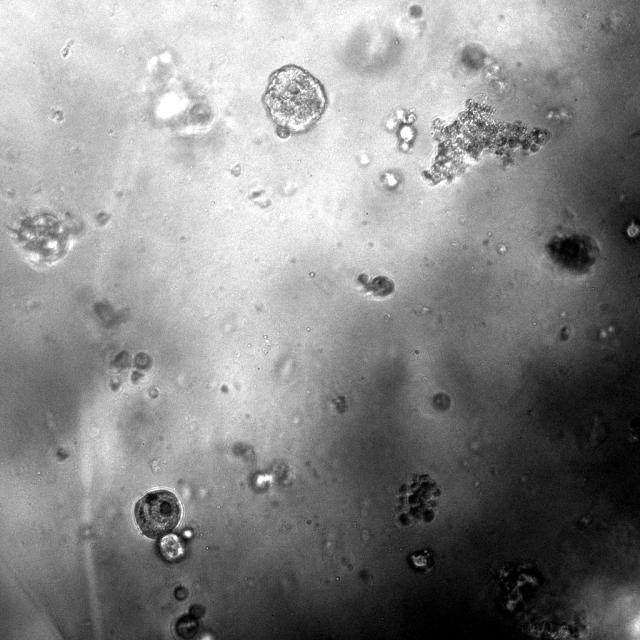organoid: (421, 98, 549, 185), (498, 563, 586, 639), (133, 487, 196, 563), (261, 65, 326, 138), (9, 209, 69, 267), (396, 473, 441, 525), (546, 234, 599, 272), (108, 349, 152, 391), (174, 605, 216, 639), (386, 108, 417, 152), (356, 273, 394, 294), (460, 43, 487, 71), (409, 549, 434, 572), (432, 392, 451, 411), (174, 586, 188, 600), (409, 4, 421, 18), (147, 385, 159, 399)
